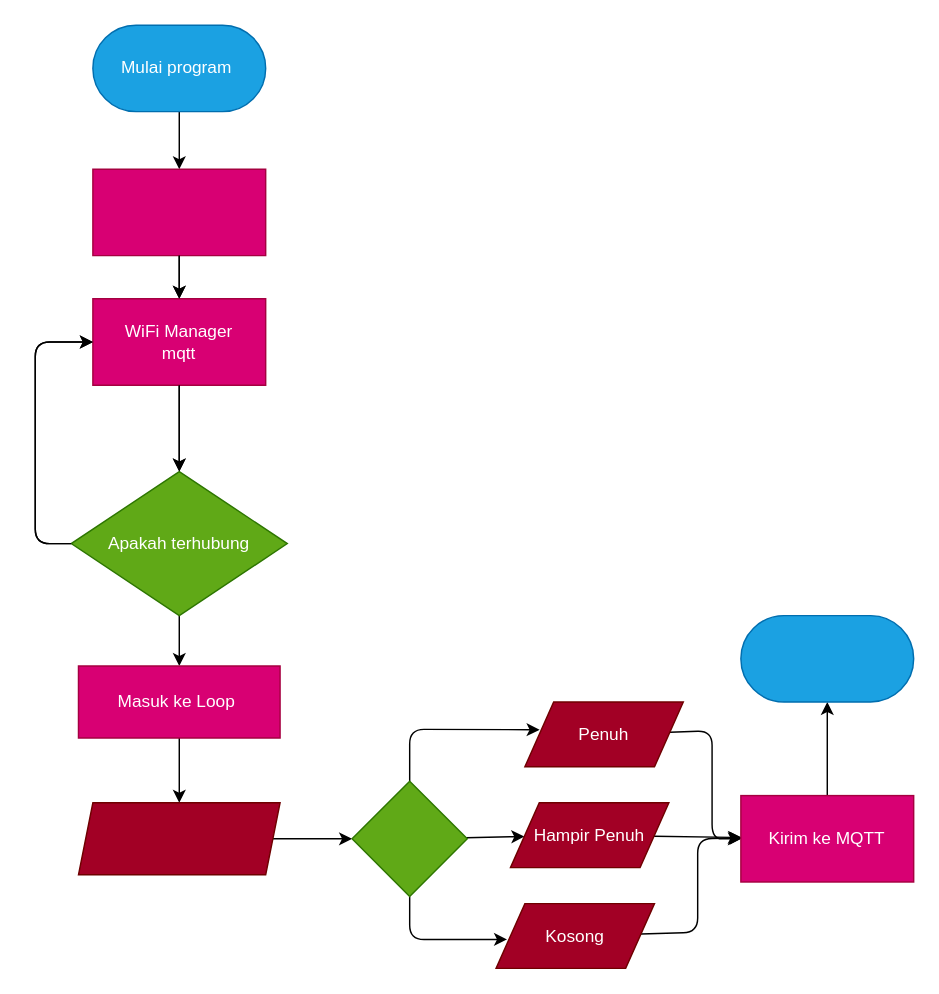
Some shapes in this 939 by 994 pixel diagram are drawn without their labels. The shapes that lost their labels are listed below. From the top down, each one's centre as x and y in pixels, then its label:
At point 178,212: "Instalasi".
At point 826,658: "Ulagi lopnya".
At point 178,838: "Mengukur jarak".
At point 409,838: "Keluaran".
